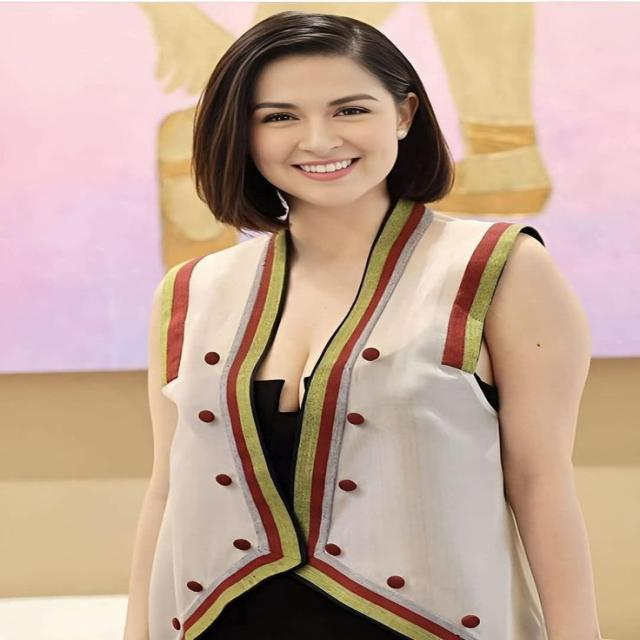sem_oculos: (235, 90, 450, 143)
